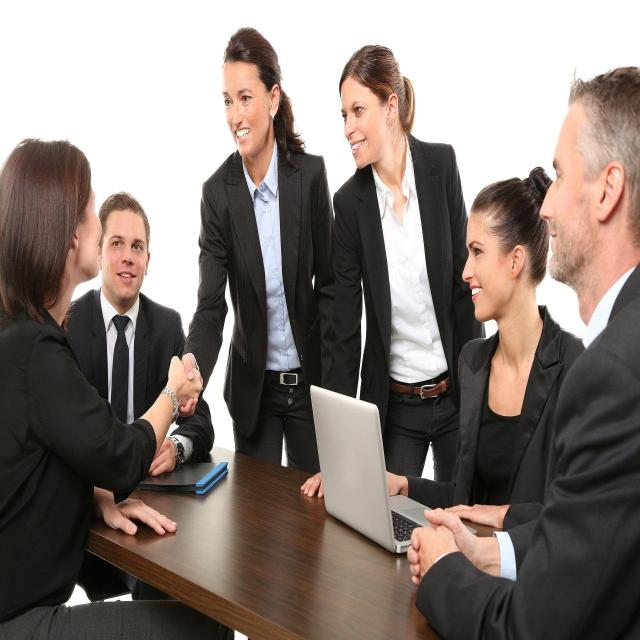person: (8, 115, 207, 622), (507, 21, 640, 629), (319, 44, 476, 522), (175, 26, 346, 453), (426, 134, 579, 518), (75, 172, 212, 472)
